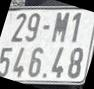-: (43, 24, 50, 31)
.: (43, 73, 47, 78)
1: (71, 13, 82, 42)
2: (10, 13, 26, 42)
4: (51, 47, 65, 77), (13, 47, 24, 76)
5: (0, 48, 12, 78)
6: (27, 47, 42, 77)
8: (66, 47, 84, 80)
9: (26, 14, 41, 43)
M: (51, 12, 70, 43)
